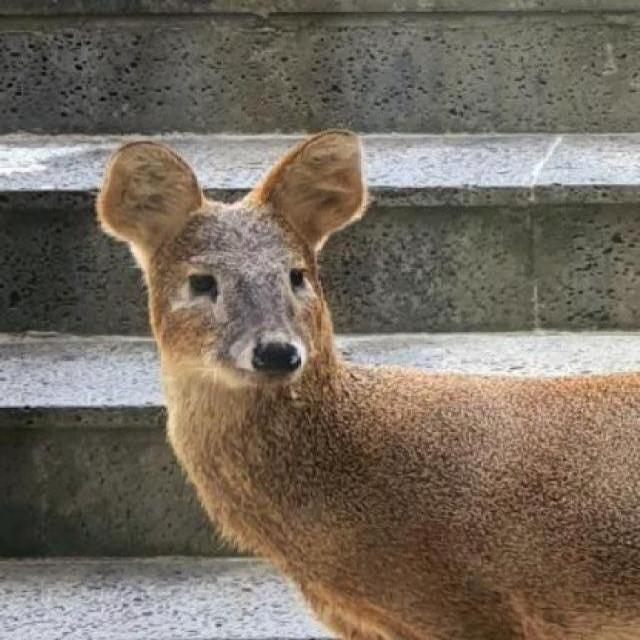deer: (86, 123, 640, 640)
